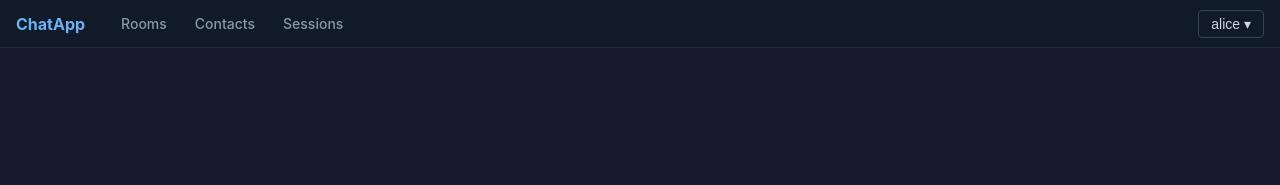
Test: NavBar › opens dropdown when profile button clicked
This screenshot has width=1280, height=185.
Click the button with aria-label "profile menu" at (1231, 24), box [1198, 10, 1264, 38]
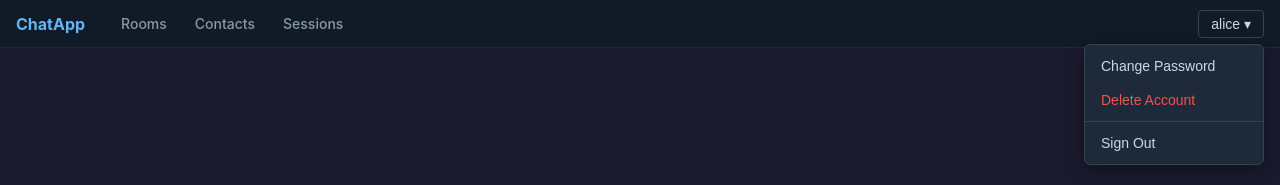
Now the menu item "Change Password" is shown, box [1085, 48, 1263, 82]
Now the menu item "Delete Account" is shown, box [1085, 82, 1263, 116]
Now the menu item "Sign Out" is shown, box [1085, 126, 1263, 160]
